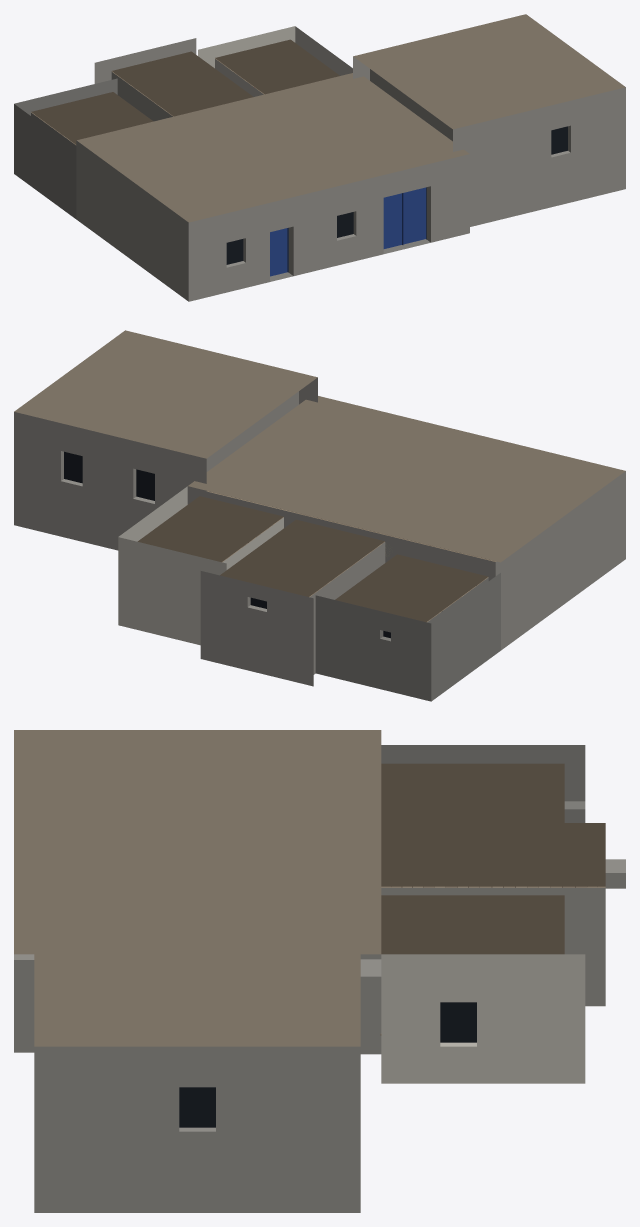
File: gardist_innen.glb
3 renders of one model, top to bottom at view 1: azimuth 30°, elevation 25°; view 2: azimuth 150°, elevation 25°; view 3: azimuth 270°, elevation 25°, orthographic. The views are drawn at different scales.
Parts seen in each view (by area): view 1: Decke_Werk, Raum_Werk, Raum_Uebung, Decke_Uebung, Raum_Zelle, Decke_Lager, Decke_Hauptmann, Decke_Zelle, Raum_Hauptmann, Raum_Lager, Bedienung_Karren_Hoftor, Holztuer; view 2: Decke_Werk, Decke_Uebung, Raum_Uebung, Raum_Zelle, Raum_Werk, Raum_Lager, Raum_Hauptmann, Decke_Lager, Decke_Zelle, Decke_Hauptmann; view 3: Decke_Werk, Raum_Uebung, Decke_Uebung, Raum_Hauptmann, Decke_Lager, Decke_Hauptmann, Decke_Zelle, Raum_Lager, Raum_Zelle, Raum_Werk.
Part boxes in pixels (x1,y1,x2,y2): Decke_Werk: (77, 73, 469, 222); Raum_Werk: (76, 140, 469, 301); Raum_Uebung: (353, 56, 625, 226); Decke_Uebung: (353, 14, 625, 129); Raum_Zelle: (14, 78, 117, 218); Decke_Lager: (112, 51, 253, 116); Decke_Hauptmann: (215, 39, 339, 94); Decke_Zelle: (31, 92, 153, 144); Raum_Hauptmann: (198, 26, 352, 96); Raum_Lager: (94, 38, 196, 121); Bedienung_Karren_Hoftor: (383, 187, 426, 248); Holztuer: (270, 228, 288, 276); Decke_Werk: (188, 396, 625, 562); Decke_Uebung: (14, 330, 317, 458); Raum_Uebung: (14, 377, 317, 550); Raum_Zelle: (315, 573, 500, 701); Raum_Werk: (206, 471, 625, 650); Raum_Lager: (200, 542, 385, 686); Raum_Hauptmann: (118, 486, 283, 645); Decke_Lager: (220, 519, 384, 597); Decke_Zelle: (335, 554, 488, 622); Decke_Hauptmann: (137, 496, 283, 562); Decke_Werk: (14, 730, 381, 954); Raum_Uebung: (34, 1046, 360, 1212); Decke_Uebung: (34, 908, 360, 1046); Raum_Hauptmann: (380, 954, 585, 1083); Decke_Lager: (381, 823, 605, 887); Decke_Hauptmann: (381, 895, 564, 954); Decke_Zelle: (381, 763, 564, 822); Raum_Lager: (381, 859, 625, 1006); Raum_Zelle: (381, 745, 585, 822); Raum_Werk: (14, 954, 381, 1054).
Size of the model in its own units: 20.5 by 4.52 by 15.
